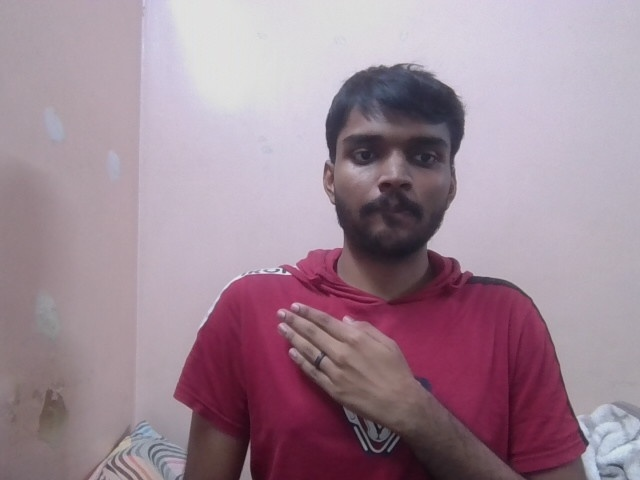Please: (272, 300, 415, 432)
